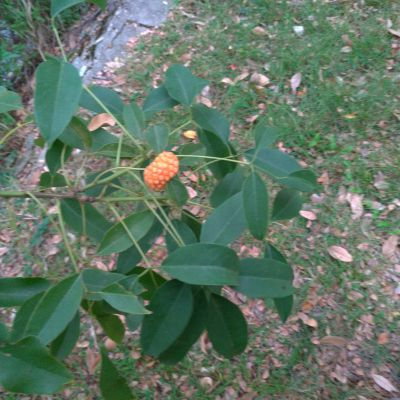eggs: (139, 148, 182, 194)
